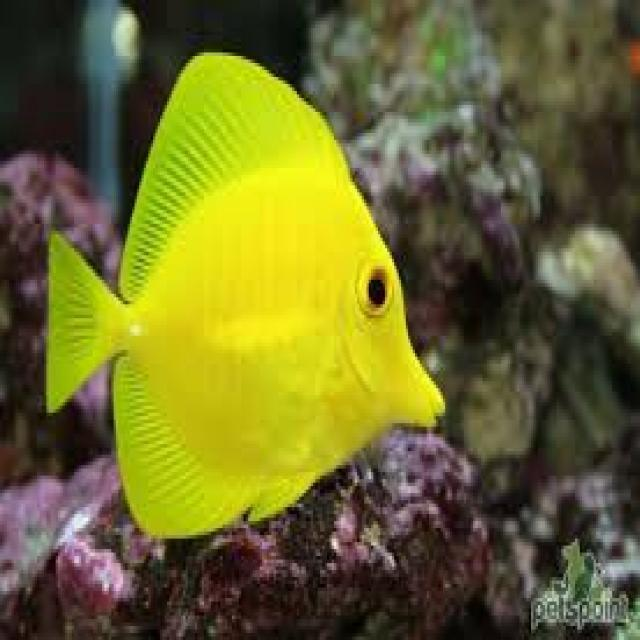TangFish: (47, 49, 446, 541)
